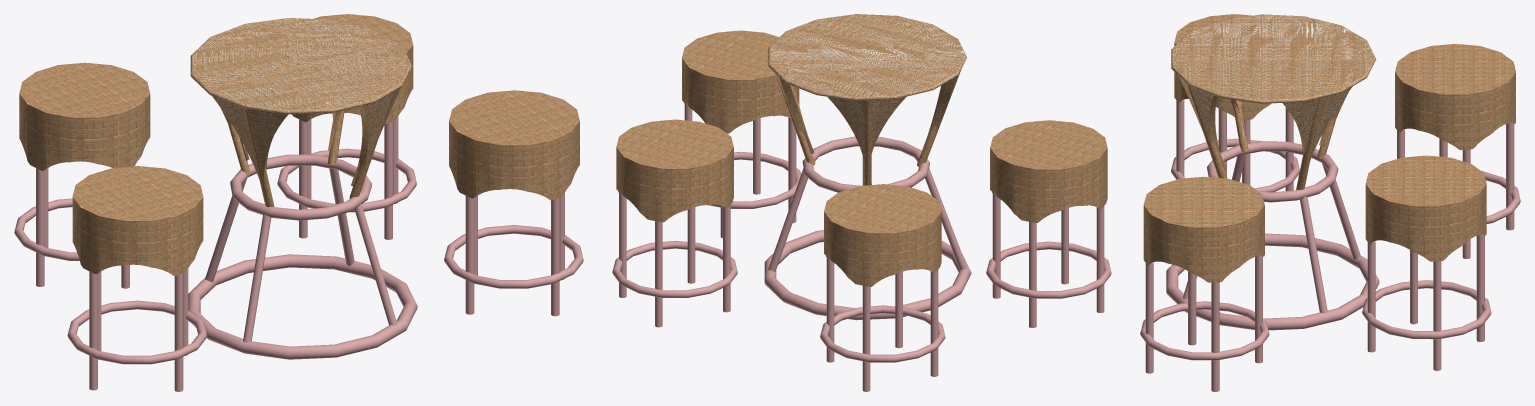
The model's file is garden furniture 3.dae.
3 renders of one model, left to right at view 1: azimuth 30°, elevation 25°; view 2: azimuth 150°, elevation 25°; view 3: azimuth 270°, elevation 25°, orthographic. The views are drawn at different scales.
Visible parts, largest first — view 1: Difference (×4), group_6 (×2), D_0.03_m, group_11 (×4), D___0.03_m, group_17 (×2), group_14 (×2), group_13 (×2), group_16 (×2), group_5 (×2), group_4 (×2), group_1 (+3 smaller); view 2: Difference (×4), group_6, group_1 (×4), group_16 (×4), D_0.03_m, group_4 (×4), group_2 (×2), group_17 (×2), group_5 (×2), D___0.03_m, group_11 (×2), group_13 (×2) (+2 smaller); view 3: Difference (×4), group_6 (×2), D_0.03_m, group_4 (×4), group_13 (×4), group_14 (×2), group_5 (×2), D___0.03_m, group_16 (×4), group_11 (×2), group_17 (×2), group_1 (+3 smaller).
Part boxes in pixels (<box>): Difference (×4): <box>19,14,579,276</box>; group_6 (×2): <box>190,18,411,197</box>; D_0.03_m: <box>188,254,417,359</box>; group_11 (×4): <box>205,168,397,342</box>; D___0.03_m: <box>230,154,371,220</box>; group_17 (×2): <box>67,300,206,364</box>; group_14 (×2): <box>444,225,583,288</box>; group_13 (×2): <box>465,196,559,316</box>; group_16 (×2): <box>89,271,183,391</box>; group_5 (×2): <box>277,148,416,212</box>; group_4 (×2): <box>299,119,392,239</box>; group_1: <box>36,168,44,286</box>; Difference (×4): <box>616,30,1107,286</box>; group_6: <box>768,14,966,161</box>; group_1 (×4): <box>826,257,938,391</box>; group_16 (×4): <box>992,193,1104,327</box>; D_0.03_m: <box>764,230,971,320</box>; group_4 (×4): <box>619,192,730,327</box>; group_2 (×2): <box>820,305,945,362</box>; group_17 (×2): <box>986,241,1111,298</box>; group_5 (×2): <box>612,240,737,297</box>; D___0.03_m: <box>802,136,929,192</box>; group_11 (×2): <box>768,168,967,271</box>; group_13 (×2): <box>753,117,796,223</box>; Difference (×4): <box>1143,14,1515,282</box>; group_6 (×2): <box>1171,14,1376,177</box>; D_0.03_m: <box>1166,233,1379,330</box>; group_4 (×4): <box>1367,233,1484,370</box>; group_13 (×4): <box>1145,255,1262,391</box>; group_14 (×2): <box>1140,301,1269,360</box>; group_5 (×2): <box>1362,280,1491,339</box>; D___0.03_m: <box>1207,141,1338,202</box>; group_16 (×4): <box>1176,99,1293,190</box>; group_11 (×2): <box>1300,163,1360,313</box>; group_17 (×2): <box>1171,138,1299,192</box>; group_1: <box>1506,122,1514,230</box>.
Bounding box in the file's own units: 49.77 × 36.9 × 24.61.
Materials: 4 (2 with a texture image).
